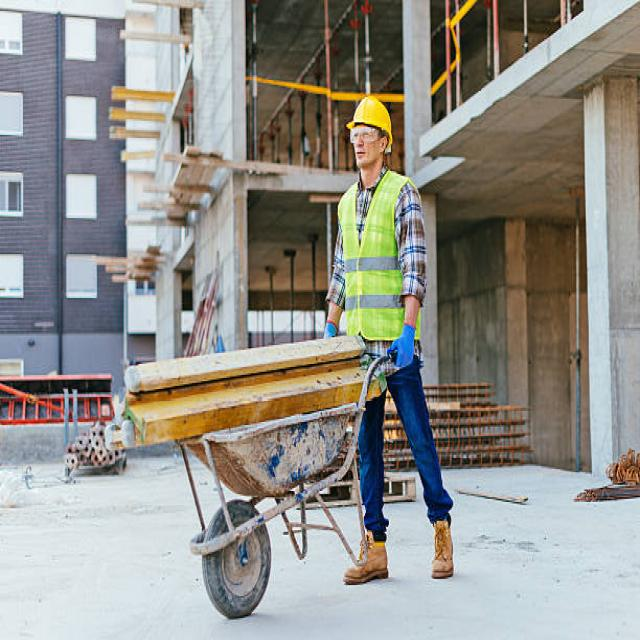gloves: (389, 320, 417, 369), (321, 320, 339, 339)
